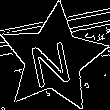N_N: (28, 30, 78, 88)
